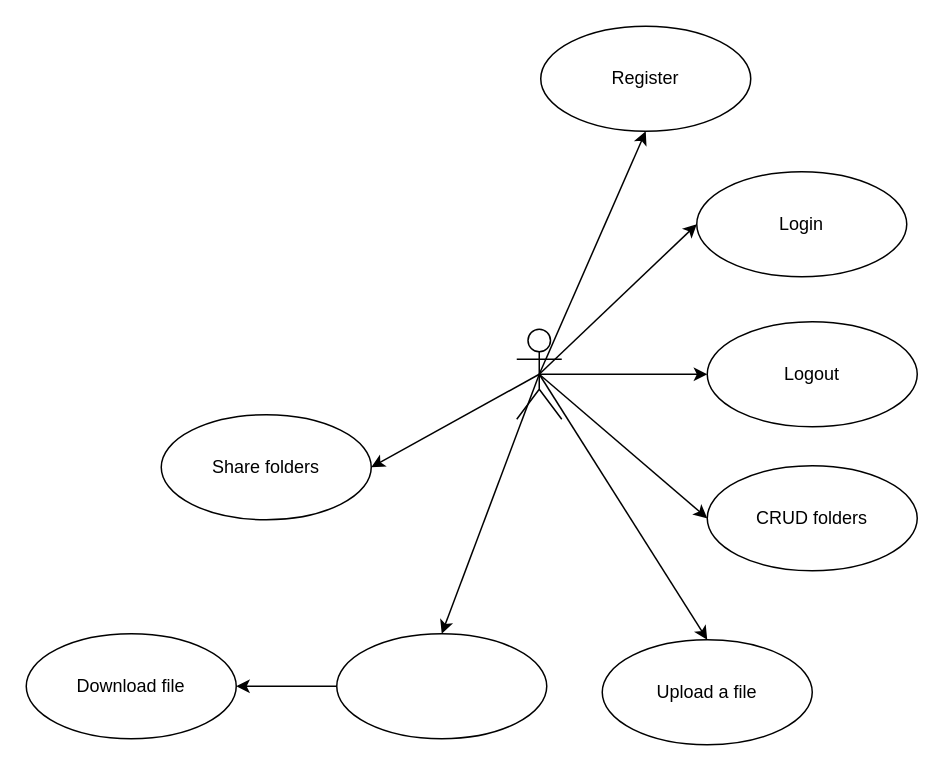
This 944x771 diagram has some shape labels left out. Here are the shapes that lost their labels. From the top down, the centre of each, then its label:
At (538,373): "User".
At (441,685): "See file's details".
